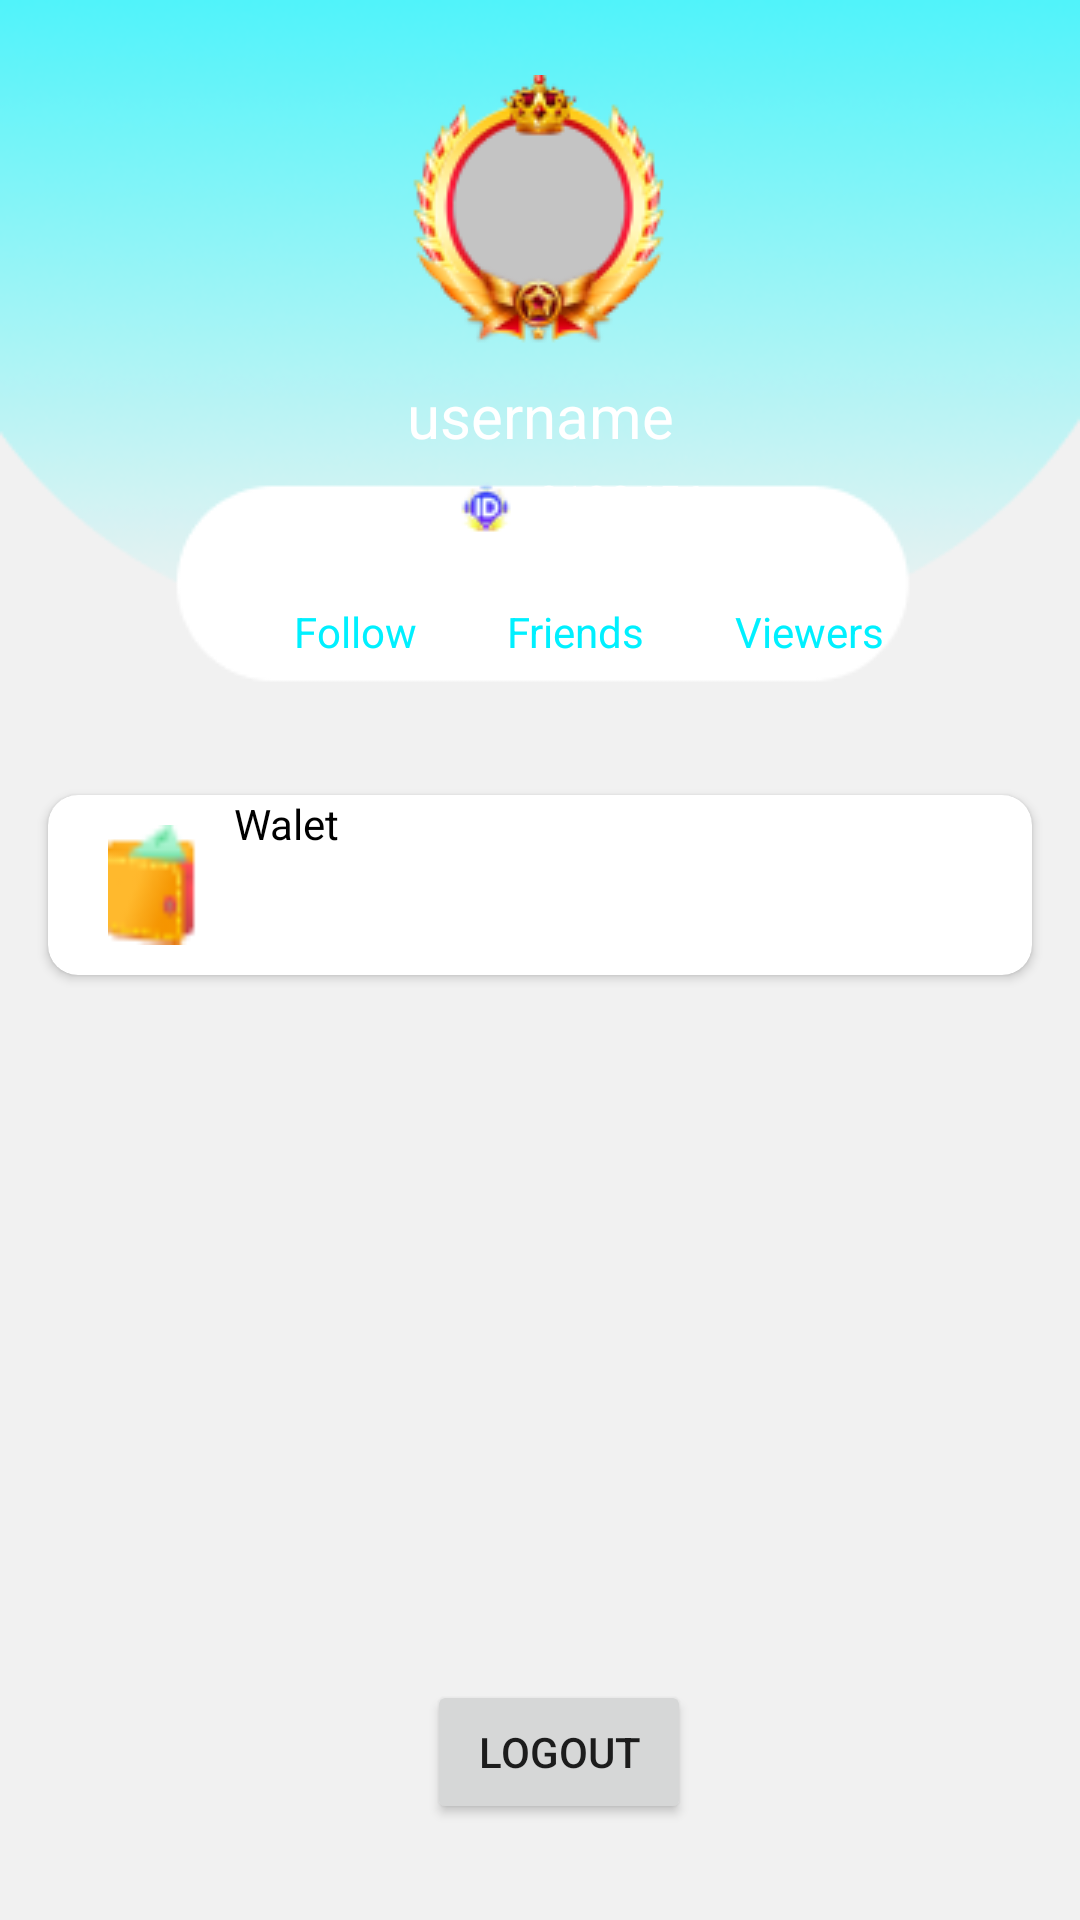

Point at icon controls on the screen. Image size 1080 × 1920, points as point (x, y).
profile wallet: point (151, 885)
user profile picture: point (540, 210)
